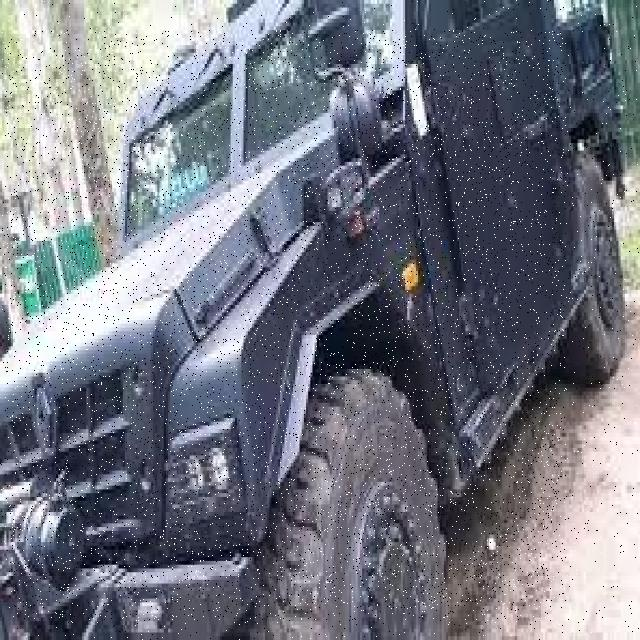MIL_MBT: (5, 30, 566, 621)
